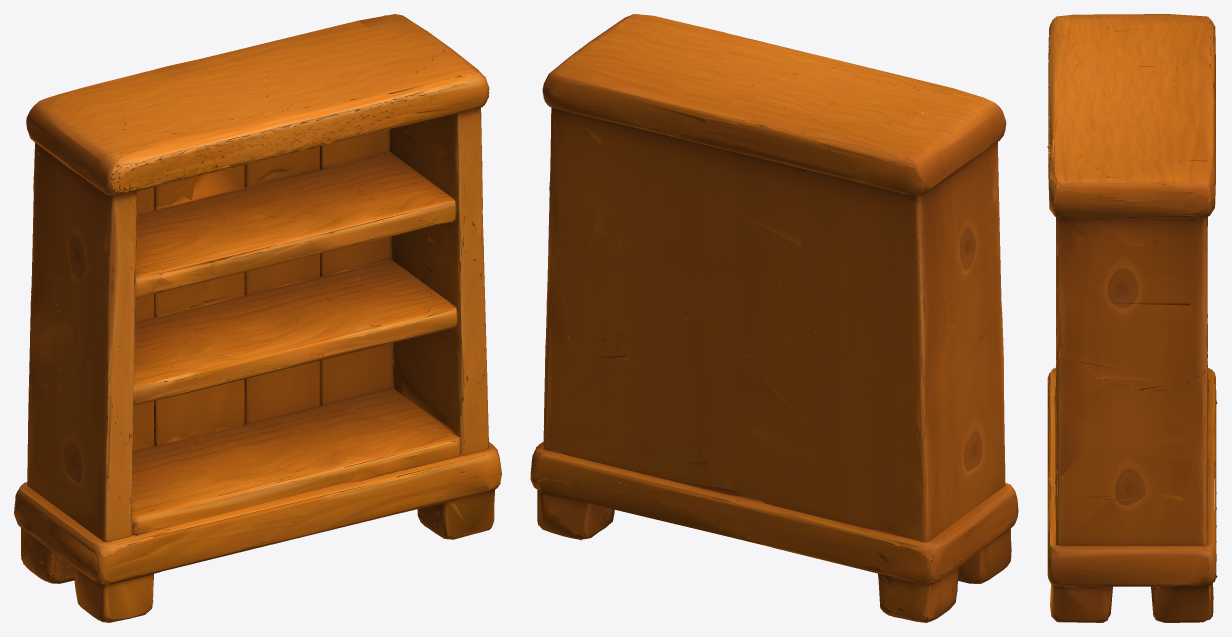
The model's file is library-shelf.glb.
The picture shows the model from 3 angles, left to right: view 1: azimuth 30°, elevation 25°; view 2: azimuth 150°, elevation 25°; view 3: azimuth 270°, elevation 25°; orthographic projection. The views are drawn at different scales.
Visible parts, largest first — view 1: node_0; view 2: node_0; view 3: node_0.
Boxes of the visible parts, <box> form: node_0: <box>14,14,501,622</box>; node_0: <box>530,14,1018,622</box>; node_0: <box>1047,14,1217,622</box>.
Bounding box in the file's own units: 0.8138 × 0.893 × 0.3128.
1 material, 1 textured.
